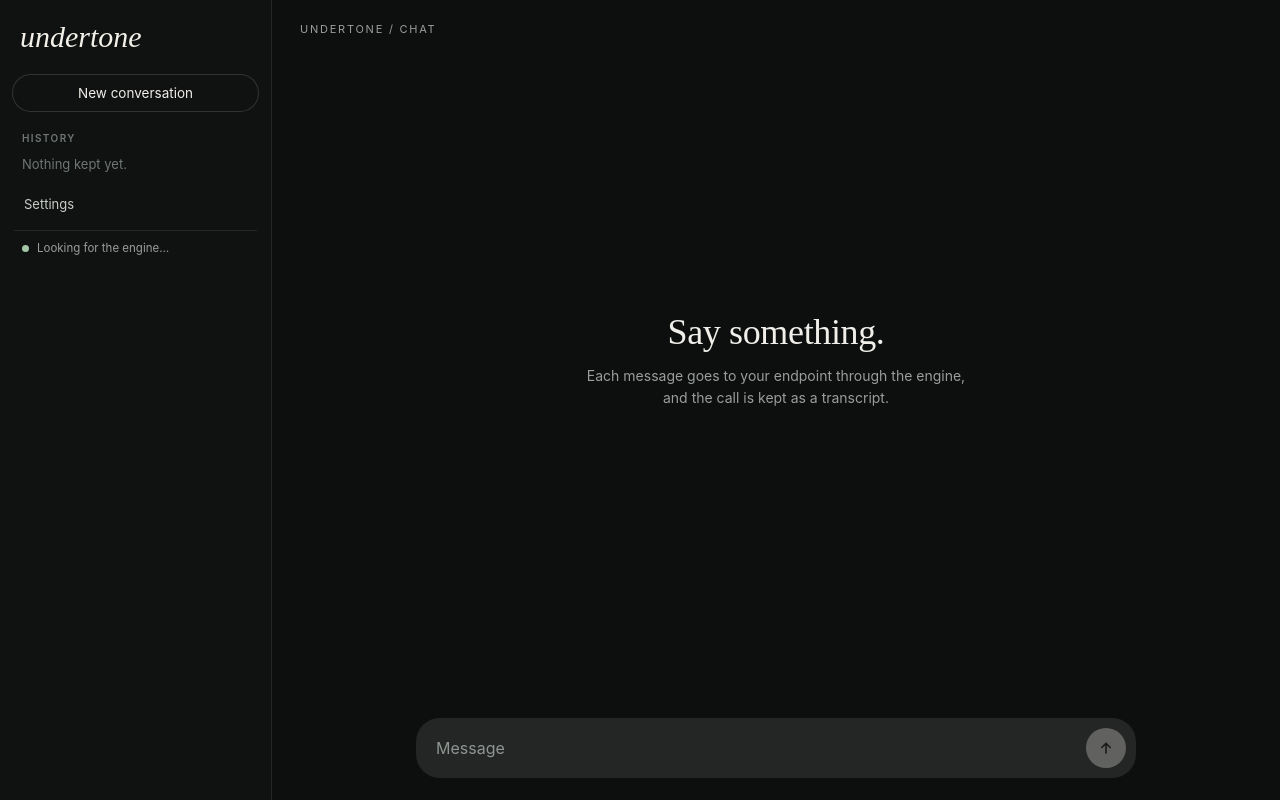
Test: the settings page › takes the conversation's place, says which endpoint the engine talks to, and gives the place back
The image size is (1280, 800).
Click the button "Settings". click: (136, 204)
box: [14,188,257,220]
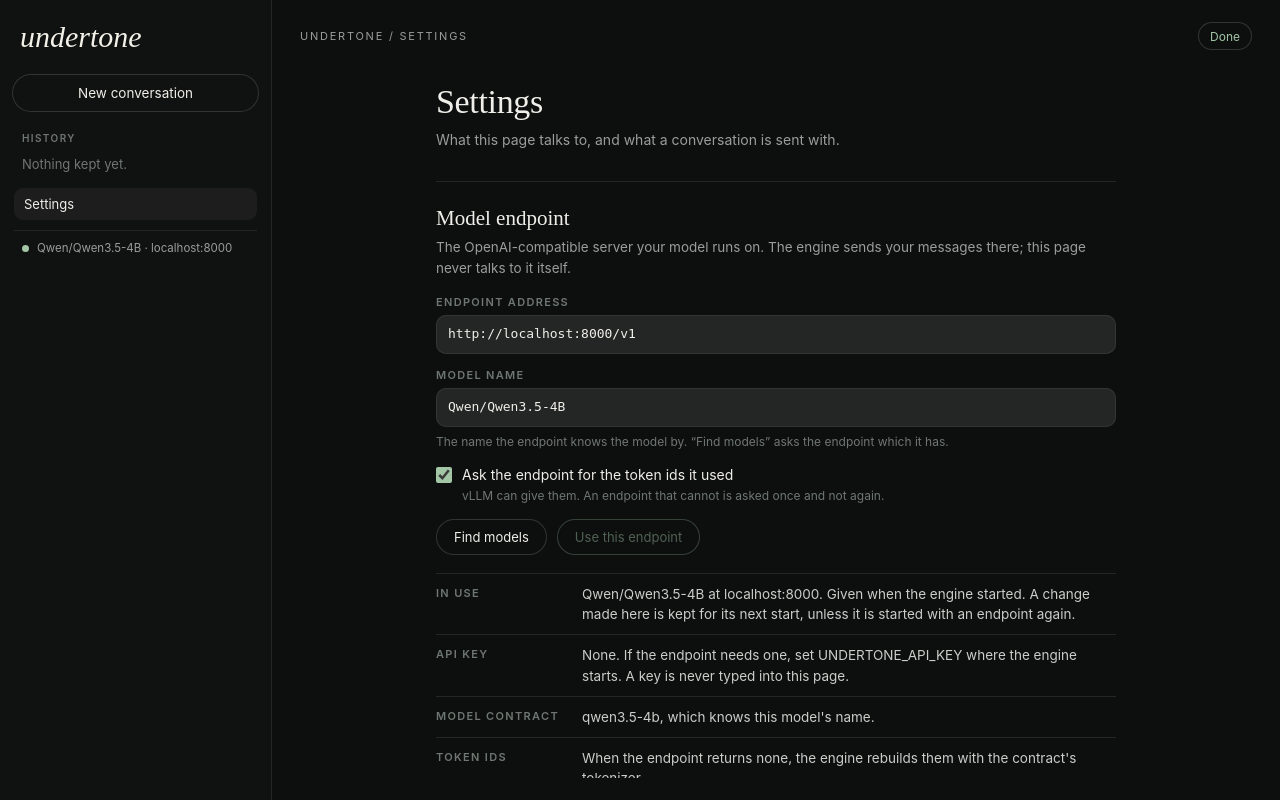
Check: the field labelled "Endpoint address" holds "http://localhost:8000/v1", box [436,315,1116,354]
Check: the field labelled "Model name" holds "Qwen/Qwen3.5-4B", box [436,388,1116,426]
Check: the checkbox labelled "Ask the endpoint for the token ids it used" is checked, box [436,466,452,482]
Click the button "Done". click: (1225, 36)
box: [1198,22,1252,50]
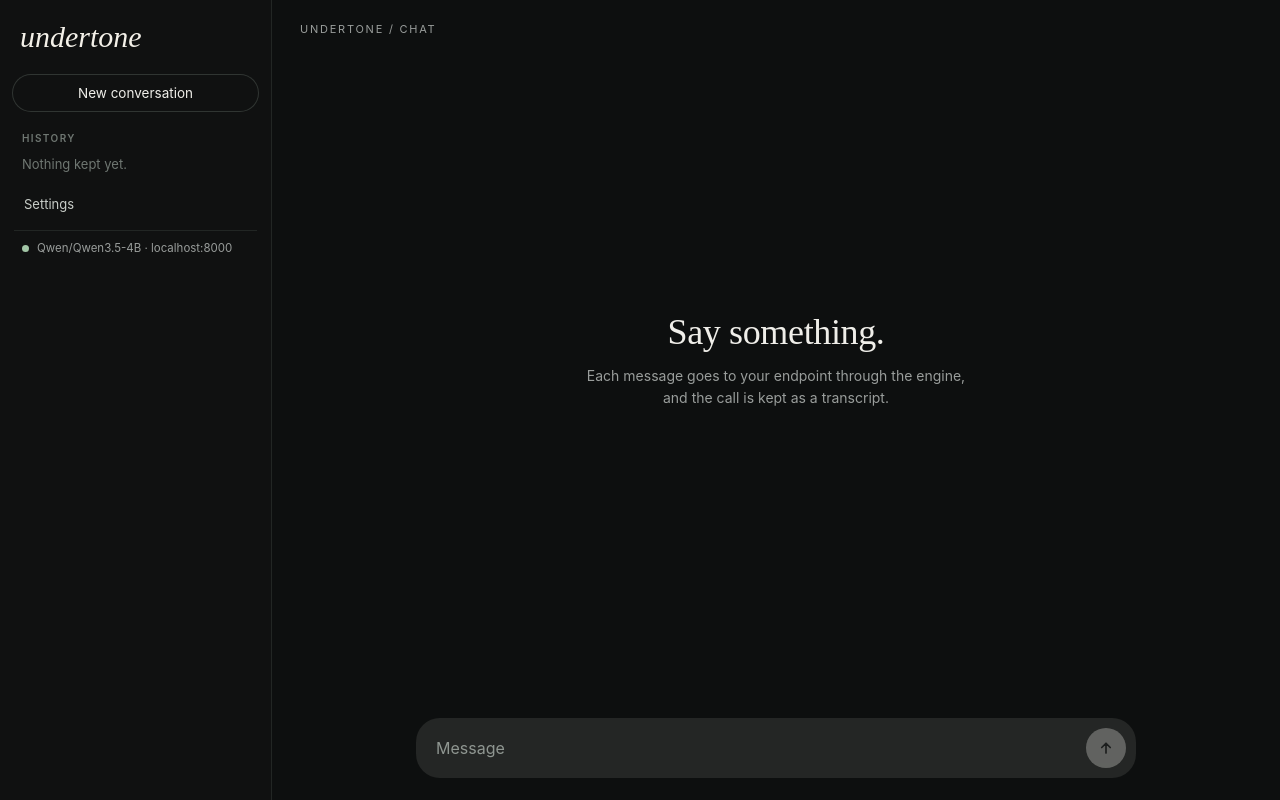
Check: the text box labelled "Message" is shown, box [436,728,1076,768]
